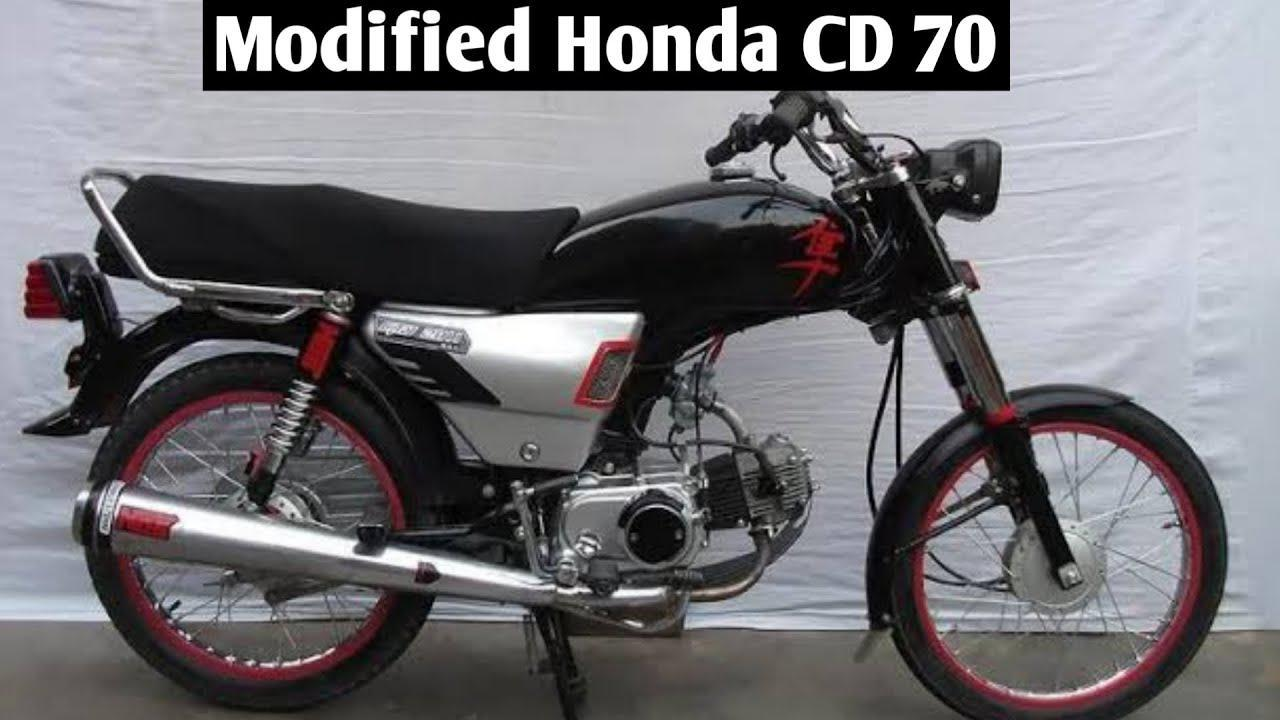bike: (19, 93, 1229, 715)
